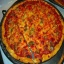pizza: (3, 2, 62, 61)
